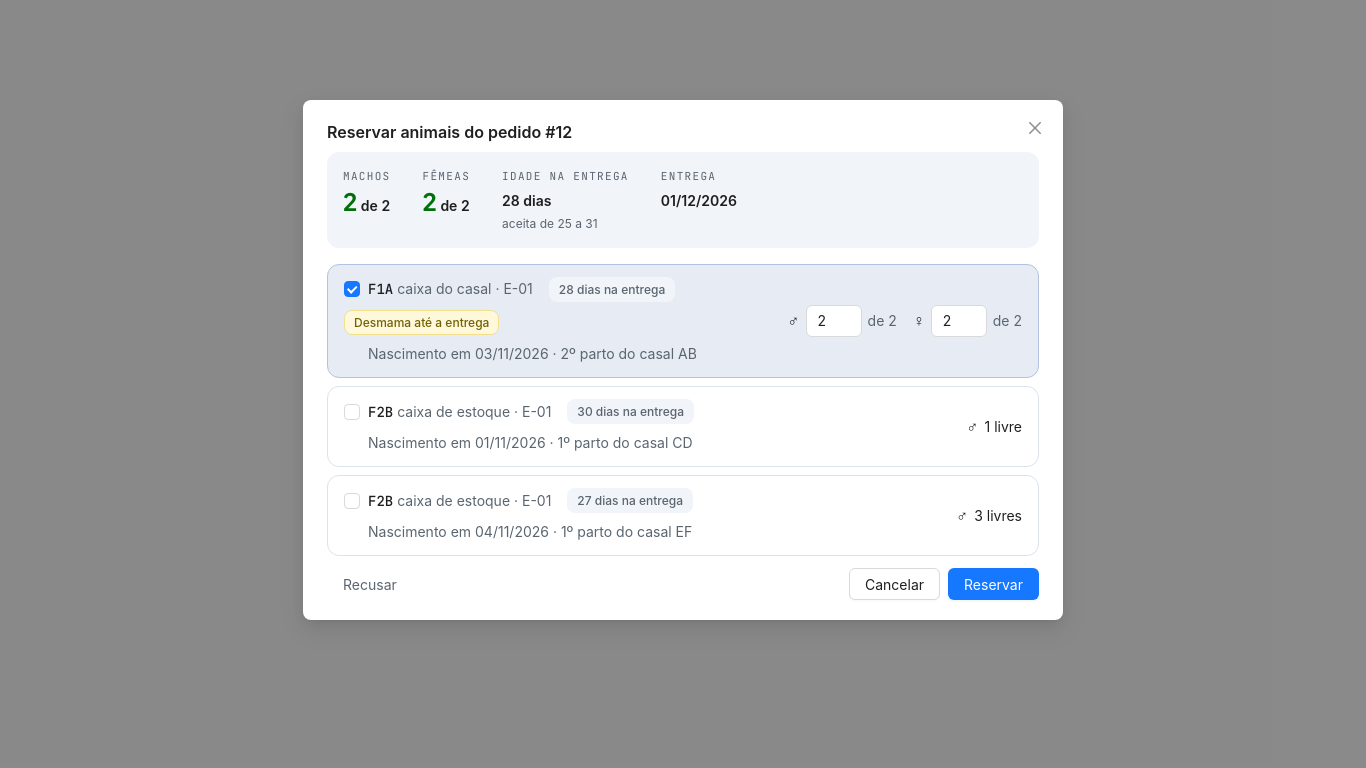
it: reservar os animais do pedido aprovado › o que passa do pedido não vai, e o aviso diz quanto sobra
Step 1. Click the checkbox named "Reservar da caixa F2B, nascimento em 01/11/2026" → (452, 412), box left=344, top=401, right=559, bottom=423
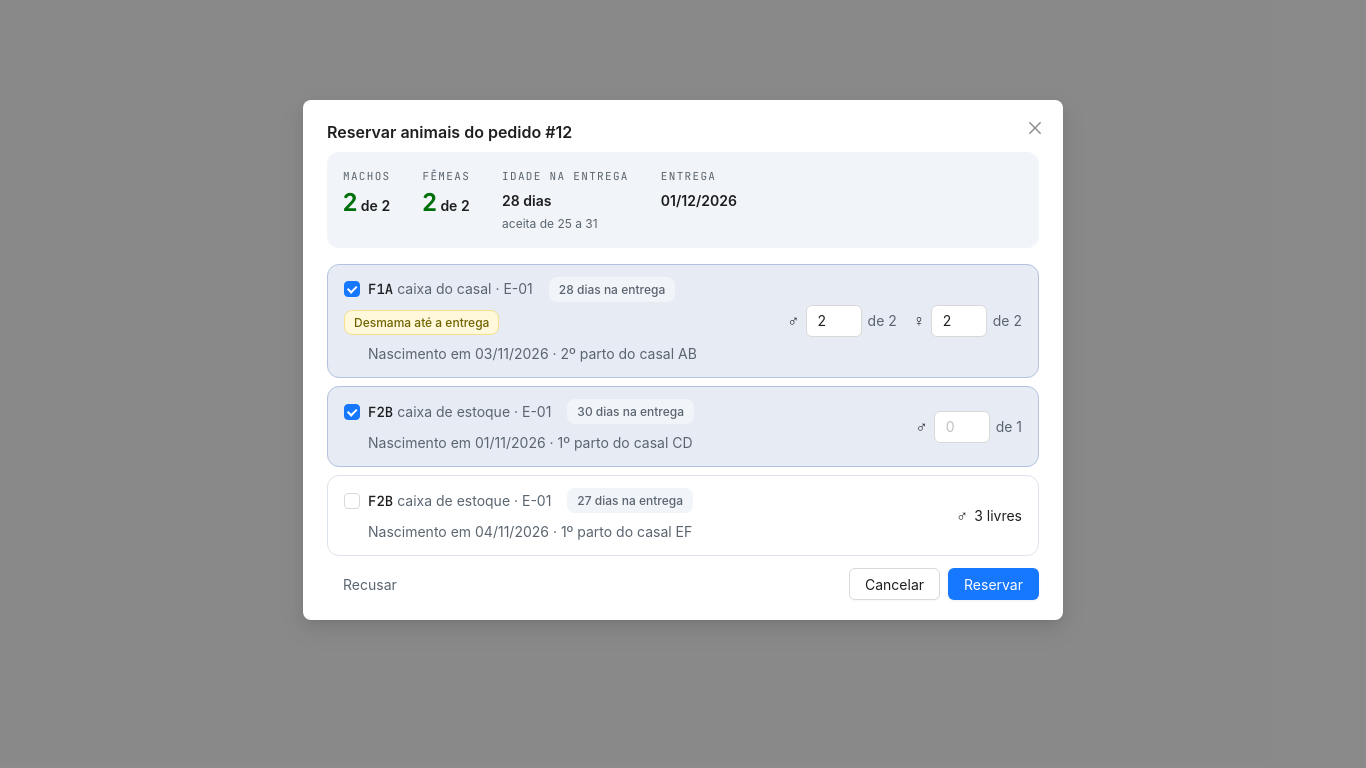
Note: o pedido já estava coberto: o lugar entra vazio, e a equipe põe 1 macho a mais
Step 2. Type "1" into the number field named "Machos a reservar da caixa F2B, nascimento em 01/11/2026" → (962, 427), box left=935, top=412, right=989, bottom=442
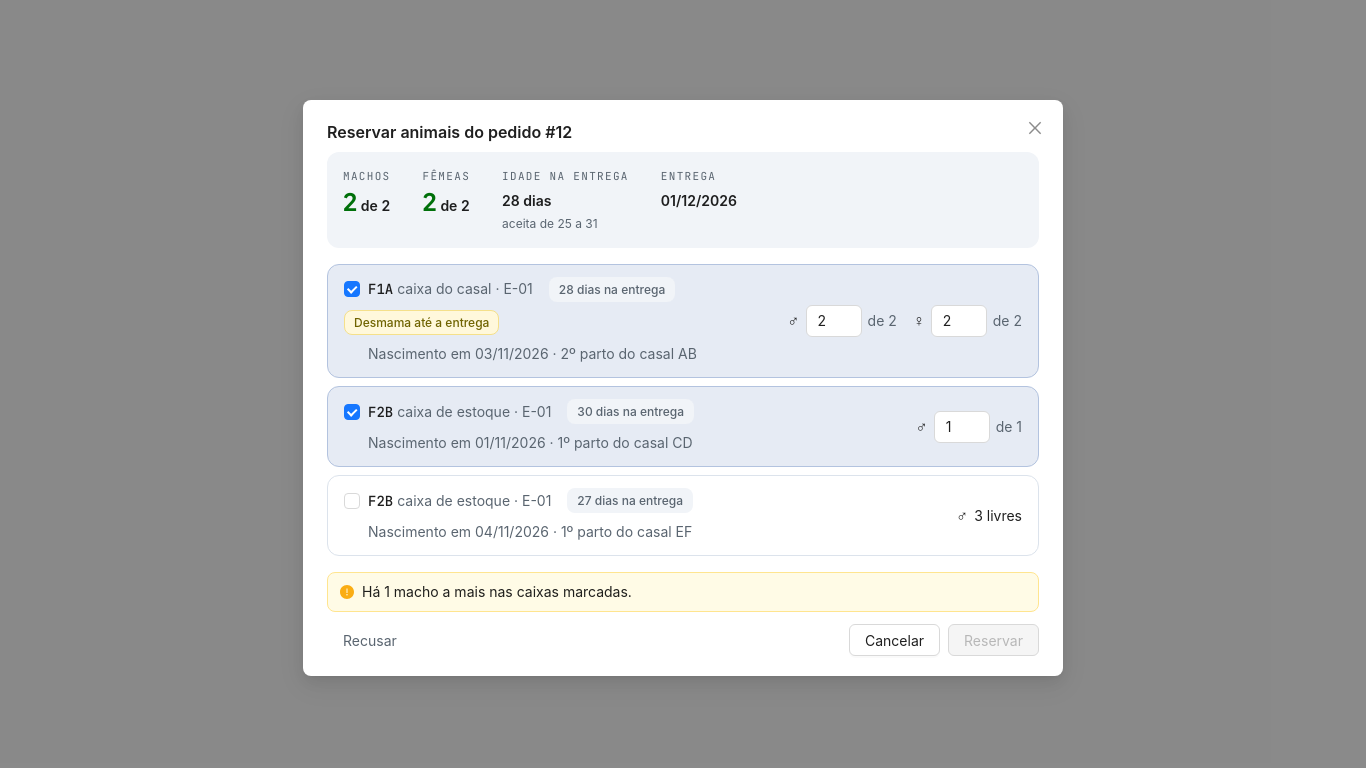
Expected: the text "Há 1 macho a mais nas caixas marcadas." is shown, left=362, top=583, right=632, bottom=600
Expected: the button "Reservar" is disabled, left=948, top=624, right=1039, bottom=656
